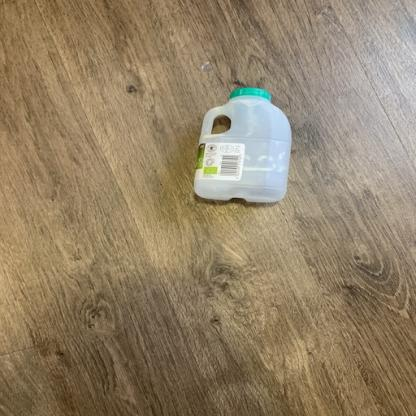trash: (193, 86, 292, 208)
